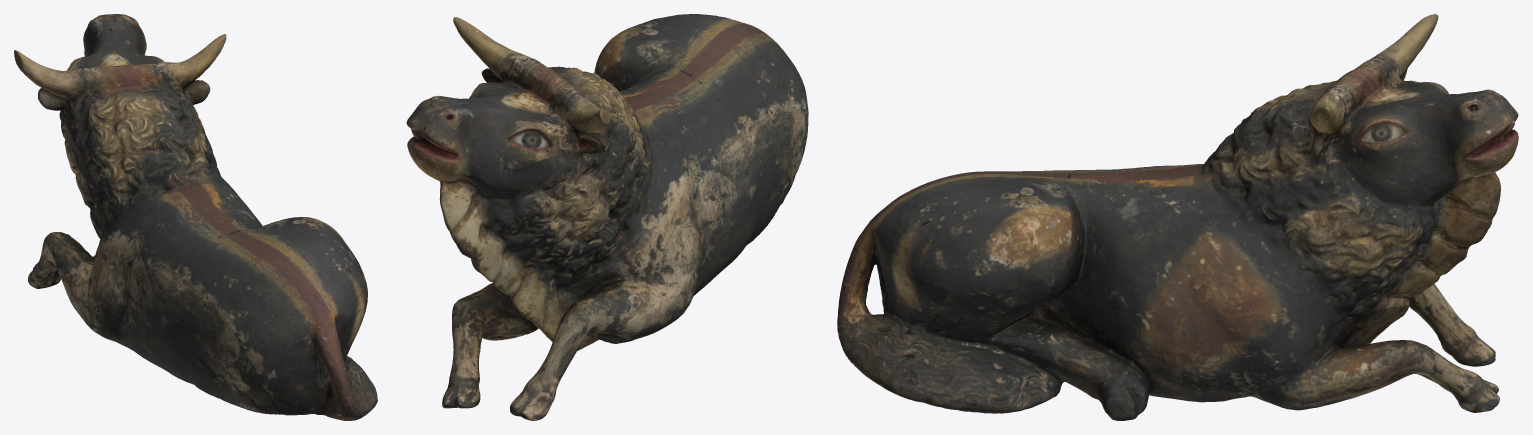
File: figure_of_an_ox.glb
3 views of the same model, side by side, from view 1: azimuth 30°, elevation 25°; view 2: azimuth 150°, elevation 25°; view 3: azimuth 270°, elevation 25° (orthographic). The views are drawn at different scales.
Parts seen in each view (by area): view 1: Object_2, Object_3; view 2: Object_2, Object_3; view 3: Object_2, Object_3.
Part boxes in pixels (box(x1,y1,x2,y2)): Object_2: box(14, 14, 367, 416); Object_3: box(52, 14, 377, 420); Object_2: box(413, 14, 808, 420); Object_3: box(406, 14, 807, 408); Object_2: box(840, 14, 1518, 420); Object_3: box(837, 82, 1518, 420).
Bounding box in the file's own units: 0.1024 × 0.1569 × 0.2855.
Materials: 1 (1 with a texture image).
